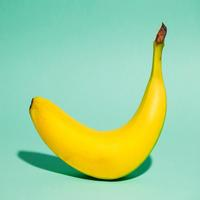banane: (24, 20, 176, 181)
